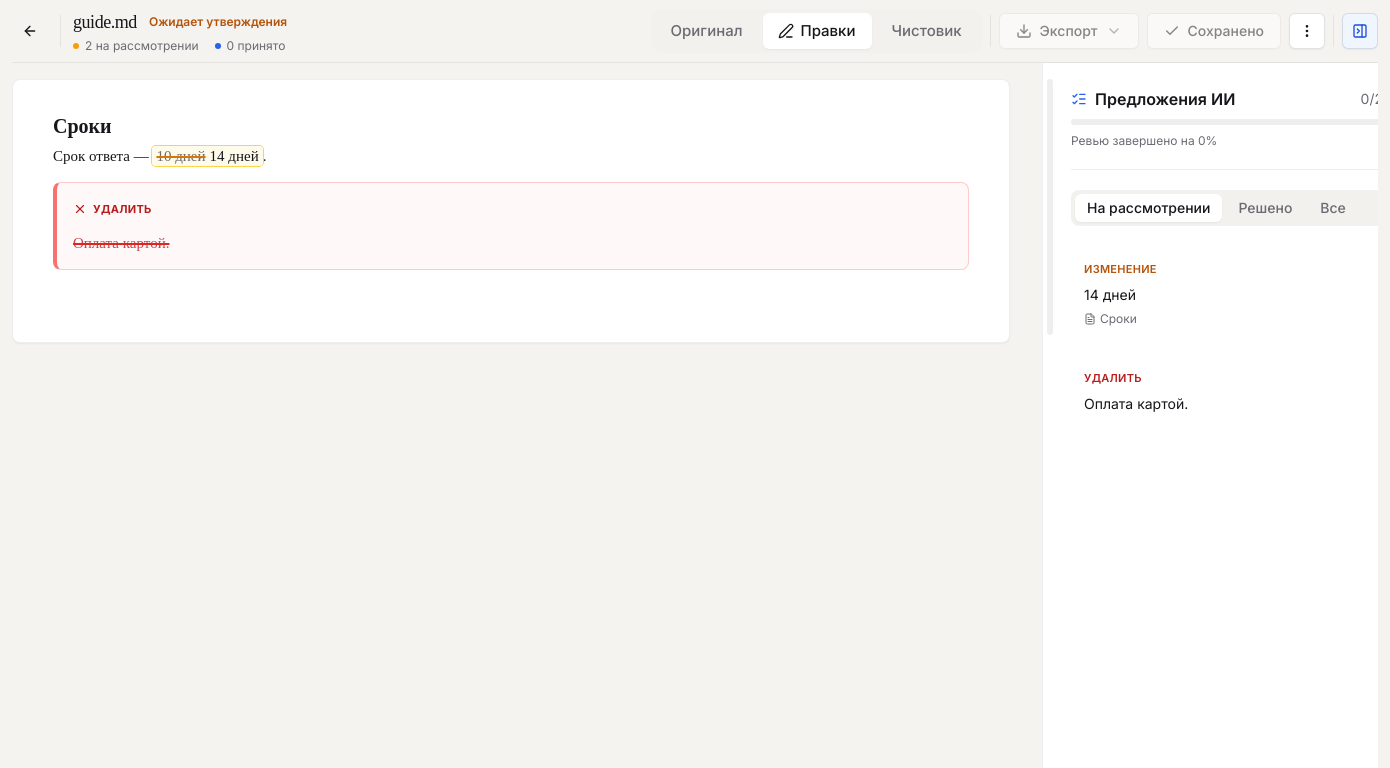
Test: Редактор правок › принимает правку из карточки и сохраняет решение с If-Match
This screenshot has width=1390, height=768.
Expected: the button "Сохранено" is disabled, top-left (1147, 13), bottom-right (1281, 49)
Click the text "14 дней" below "Ревью завершено на" at coordinates (1110, 294), box top-left (1084, 286), bottom-right (1136, 303)
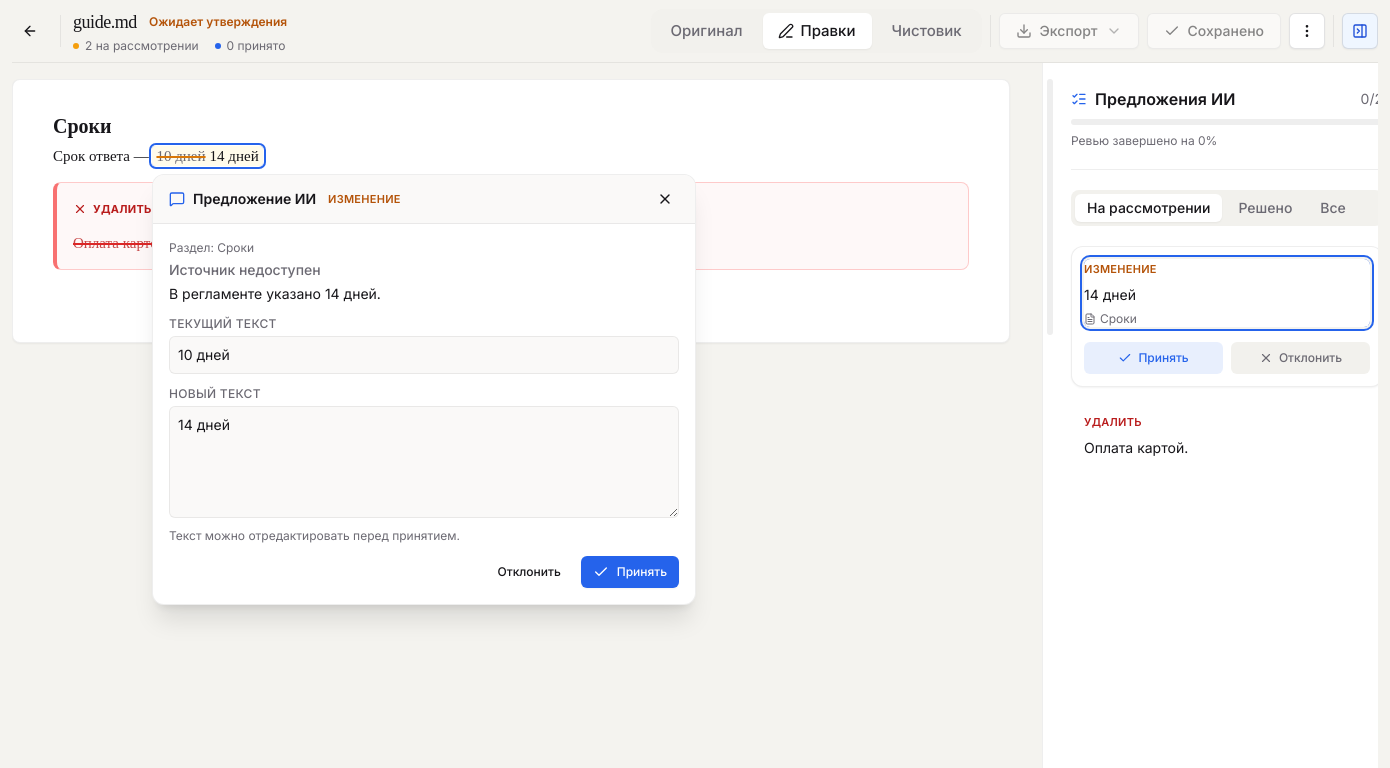
Now the text "В регламенте указано 14 дней." is shown, box top-left (169, 285), bottom-right (381, 302)
Click the button "Принять" below "В регламенте указано 14 дней." at coordinates (630, 572), box top-left (581, 556), bottom-right (679, 588)
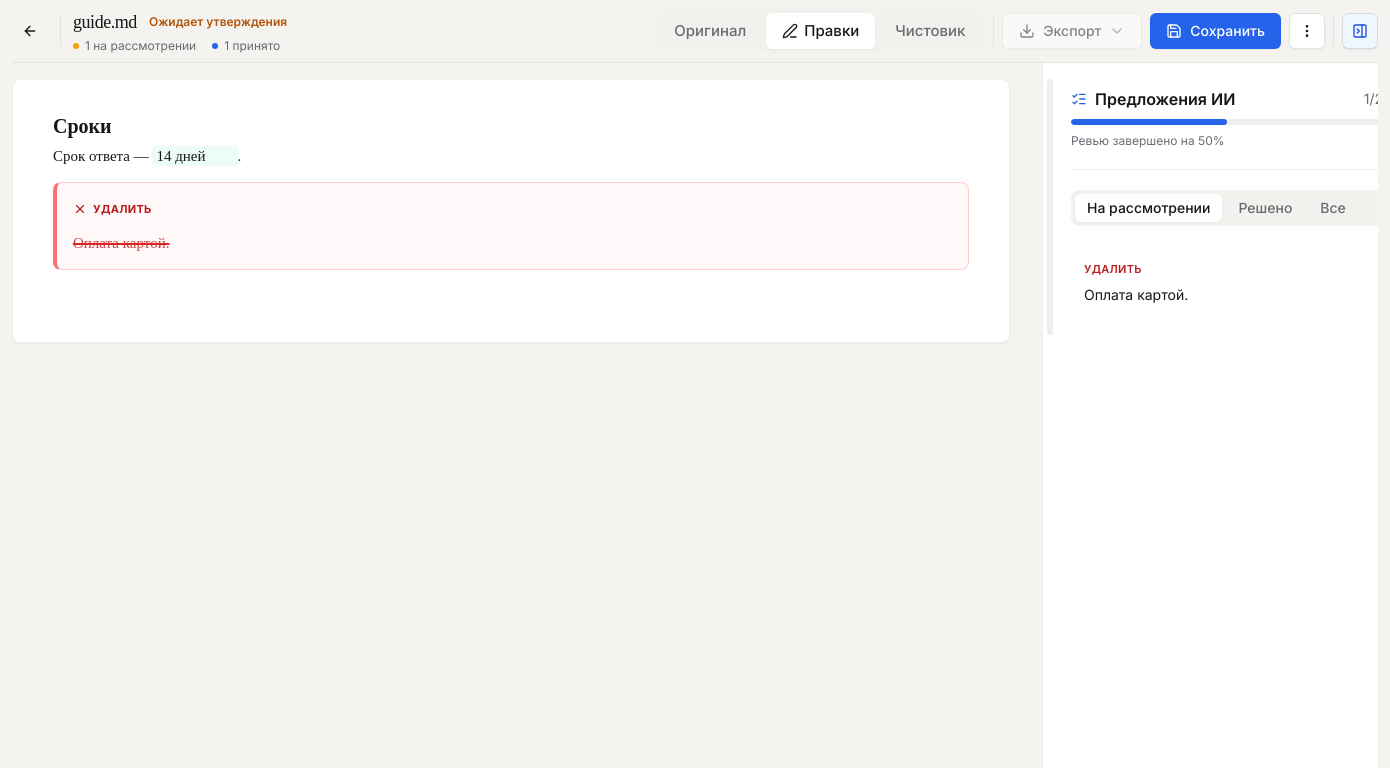
Now the text "1 принято" is shown, box top-left (212, 38), bottom-right (280, 54)
Click the radio button labelled "Чистовик" at coordinates (930, 31), box top-left (879, 13), bottom-right (981, 49)
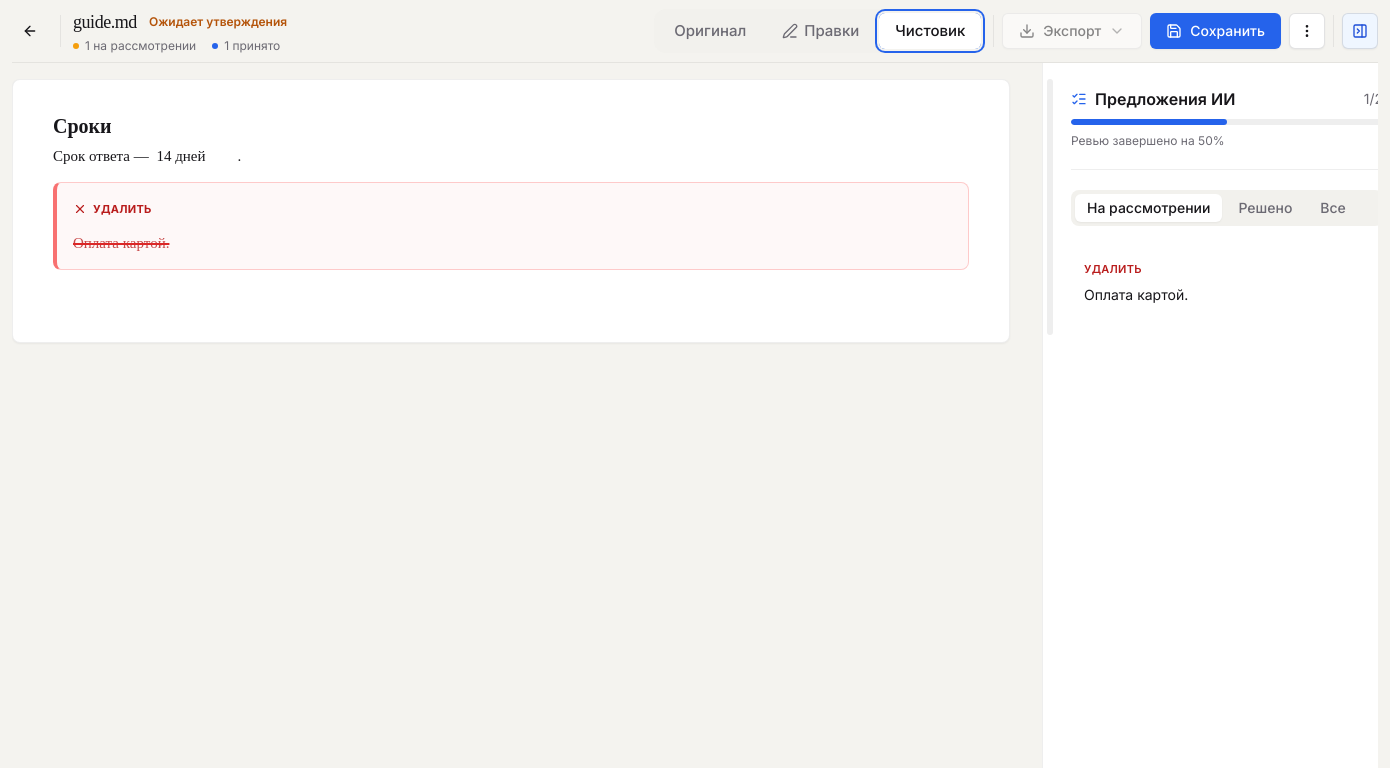
Expected: the button "Удалить Оплата картой." below "Срок ответа —" is shown, top-left (53, 182), bottom-right (969, 270)
Now the button with aria-label "Изменение, принято" is shown, box top-left (156, 148), bottom-right (206, 164)
Click the button "Сохранить" at coordinates (1216, 31), box top-left (1150, 13), bottom-right (1281, 49)
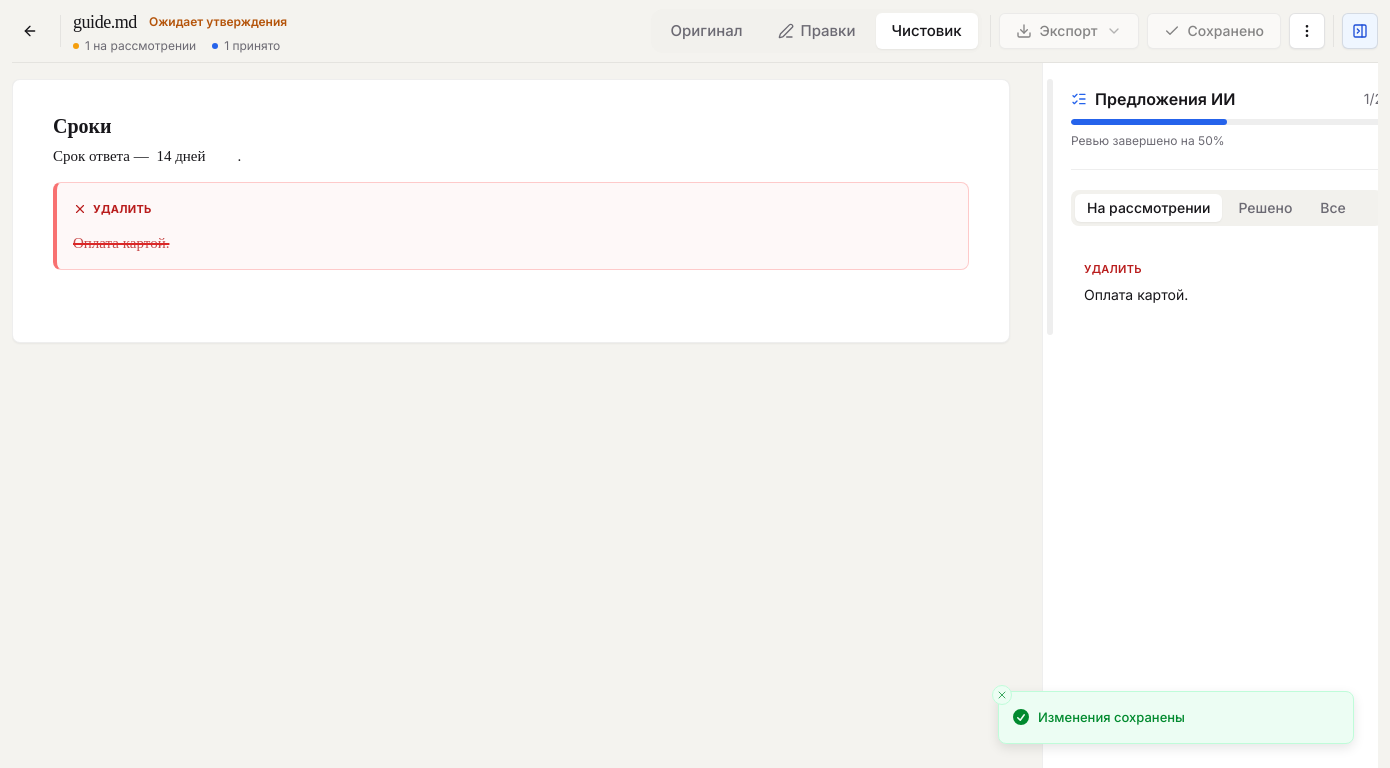
Now the button "Сохранено" is disabled, box top-left (1147, 13), bottom-right (1281, 49)
